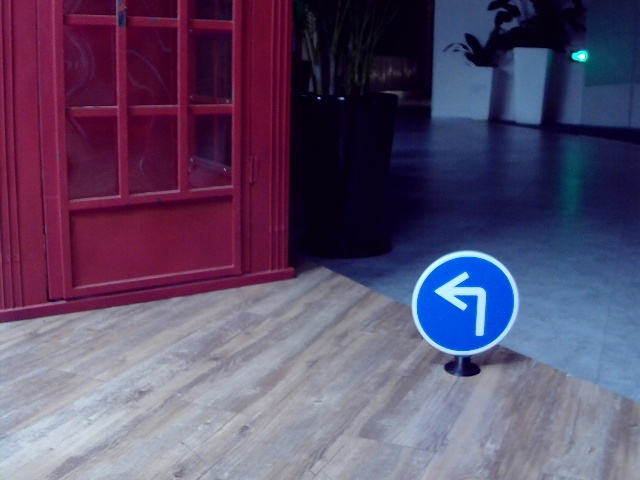turn_left: (434, 267, 489, 338)
